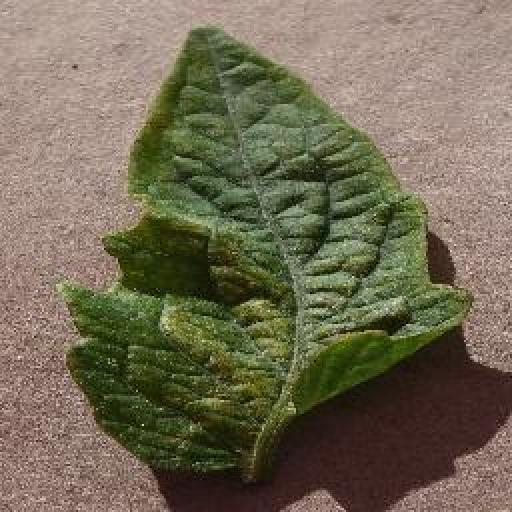Spider Mites: (61, 25, 472, 479)
